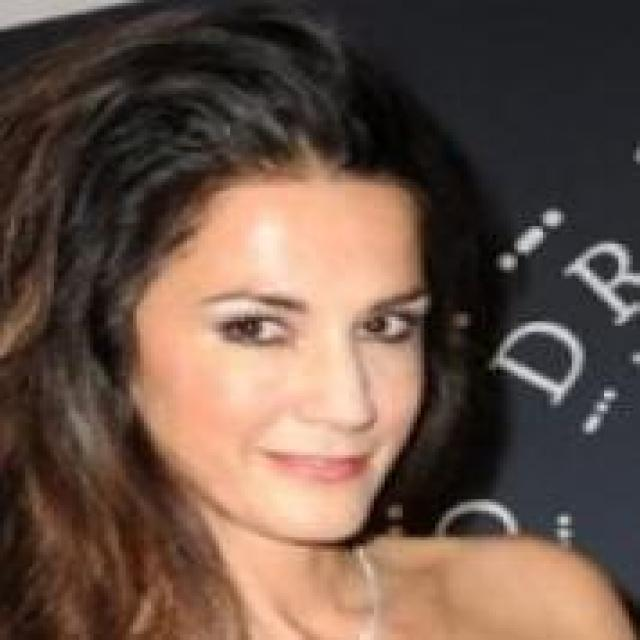nomask: (65, 123, 489, 538)
